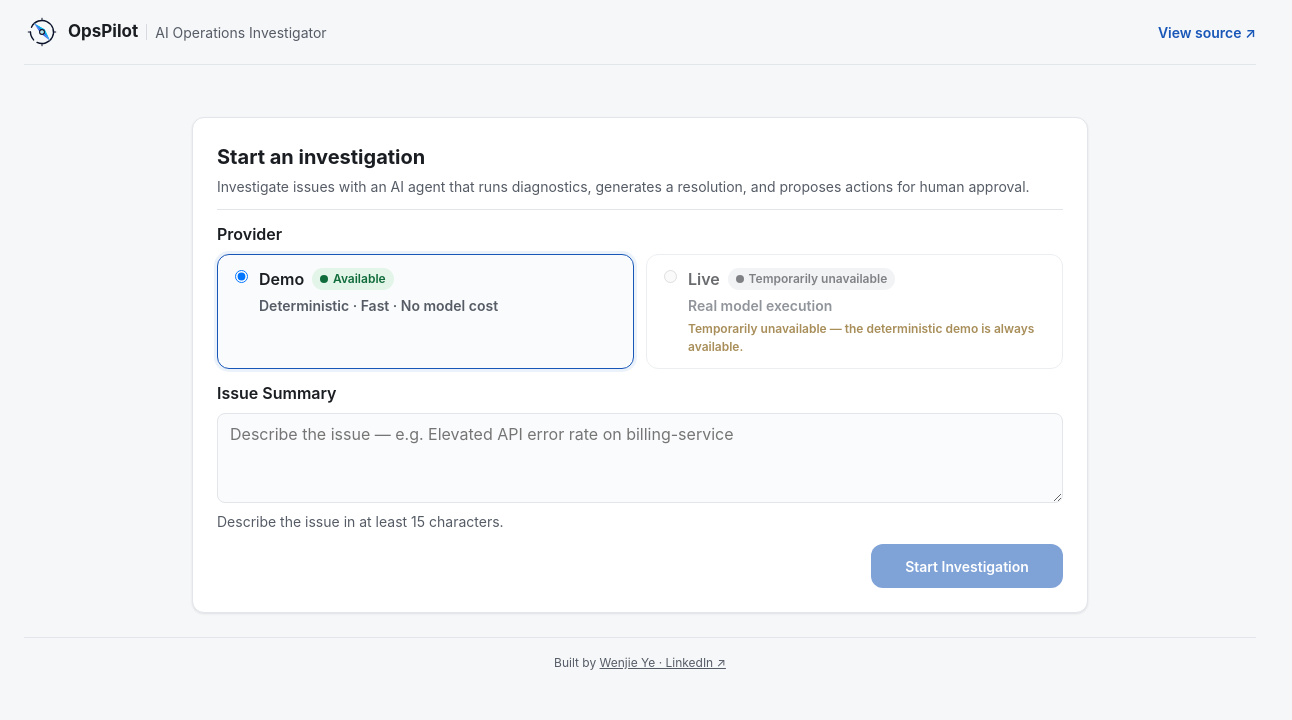
Test: Issue #41 polish — compact Run Details (§12 / §18.9-18.11) › a LIVE run shows `Live`, never the raw `LIVE` enum (§18.9)
The width and height of the screenshot is (1292, 720).
Type "Elevated error rate" into the text box labelled "Issue Summary". click: (640,458)
box: [217, 413, 1063, 503]
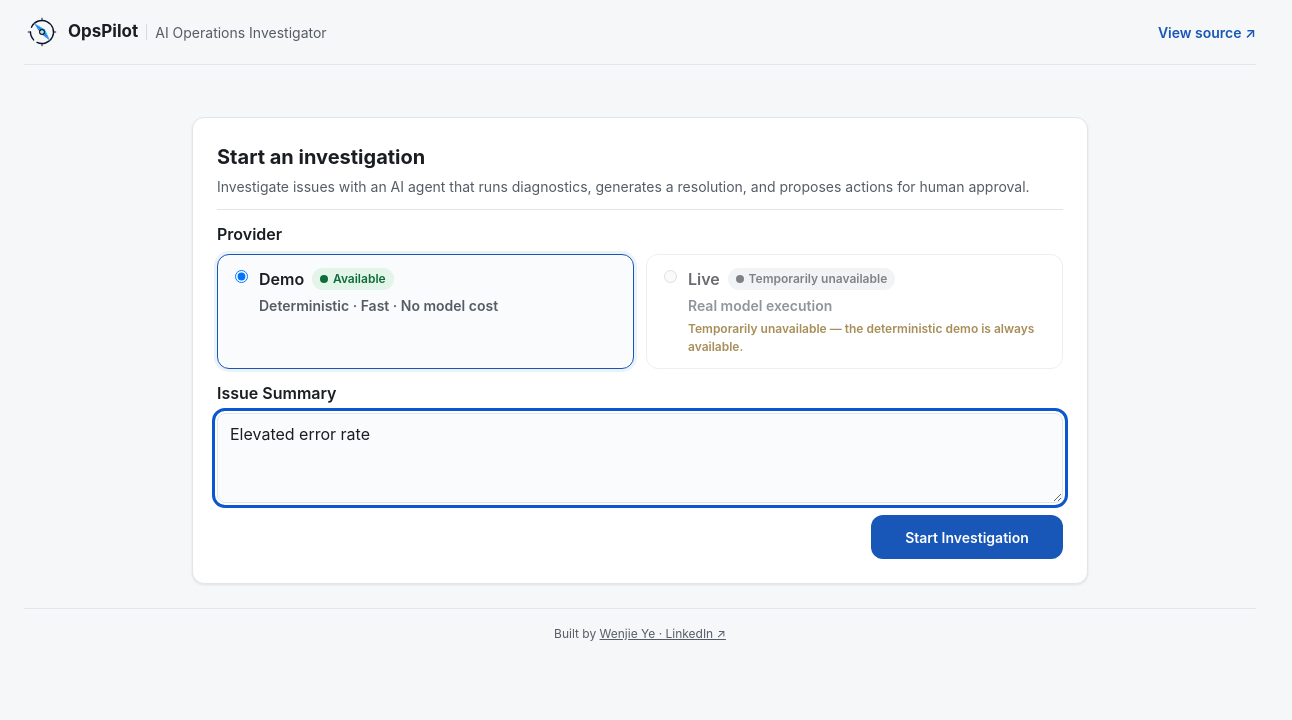
Click the button "Start Investigation". click: (967,537)
box: [871, 515, 1063, 559]
(page scrolled)
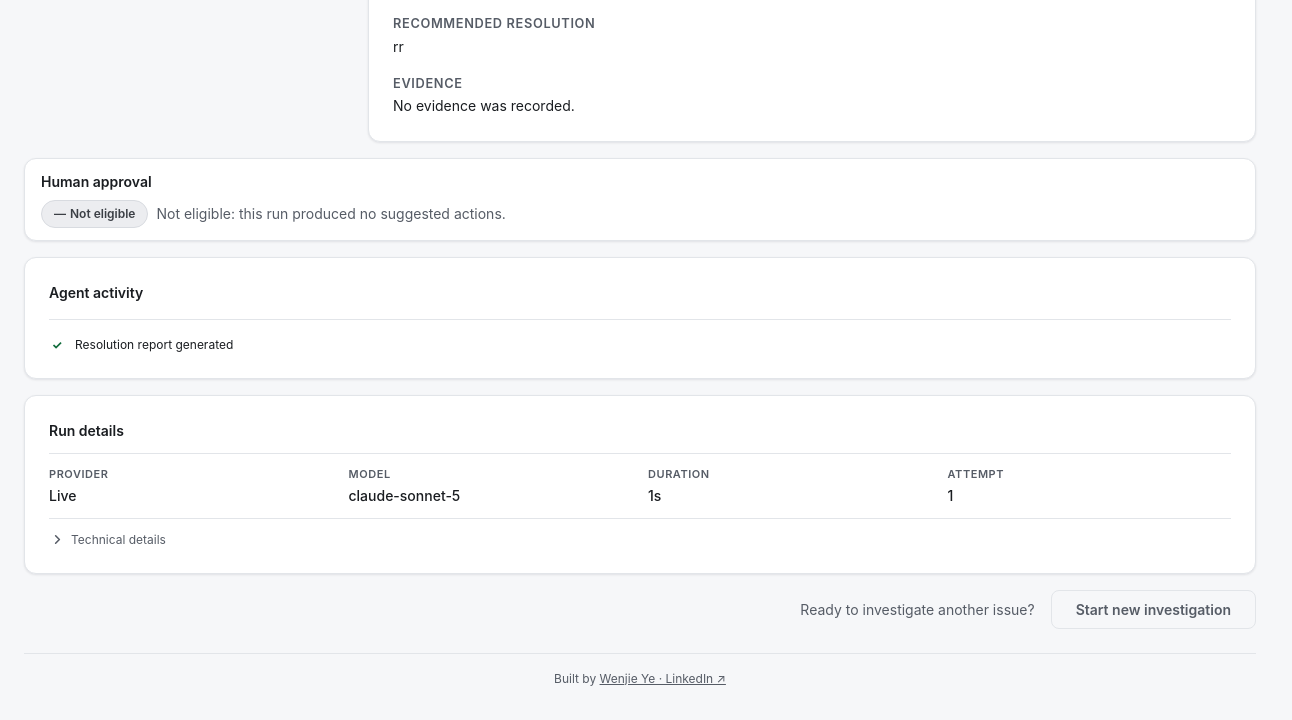
Expected: the heading "Run details" is shown, [49, 422, 124, 439]
Expected: the text "Live" is shown, [49, 487, 76, 504]
